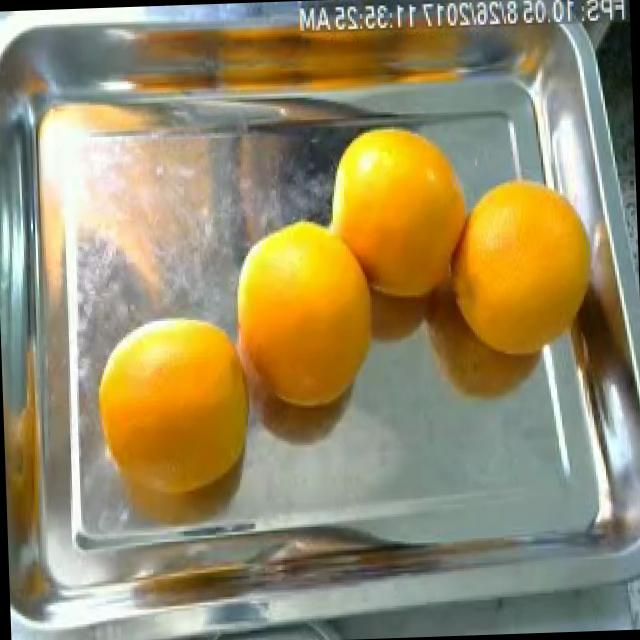Fruit: (311, 114, 478, 268)
